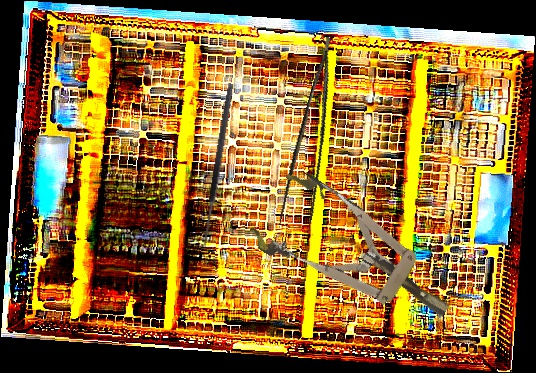Hook Surgical: (199, 82, 243, 254)
Speculum: (244, 163, 469, 351)
Tissue Forceps: (272, 36, 362, 235)
